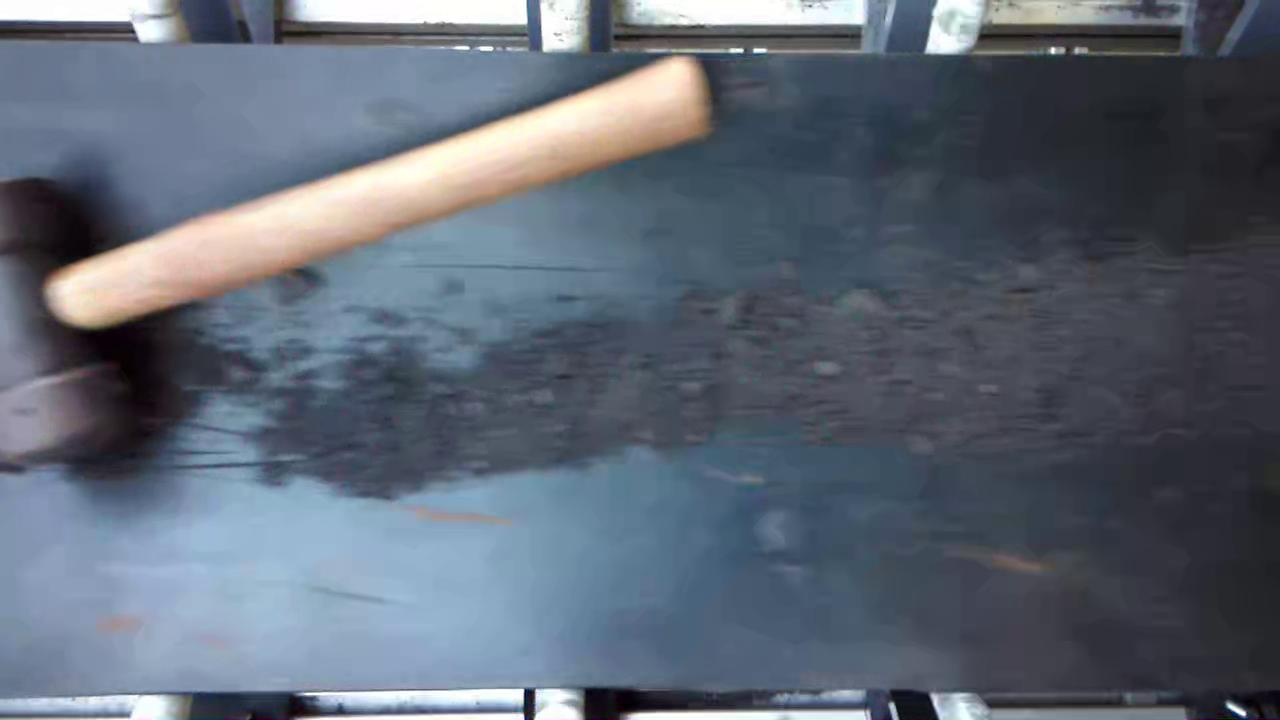conveyor: (1, 58, 1280, 684)
